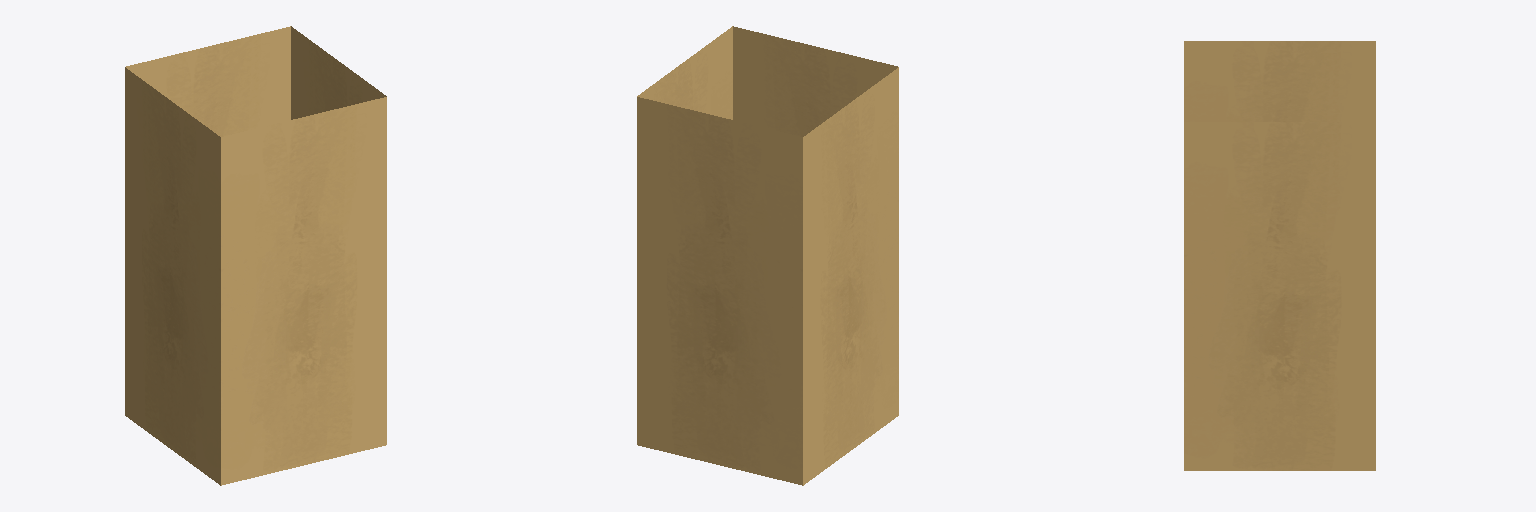
3 renders of one model, left to right at view 1: azimuth 30°, elevation 25°; view 2: azimuth 150°, elevation 25°; view 3: azimuth 270°, elevation 25°, orthographic.
Parts seen in each view (by area): view 1: pCube9; view 2: pCube9; view 3: pCube9.
Boxes of the visible parts, <box> form: pCube9: <box>125,26,386,485</box>; pCube9: <box>637,26,898,485</box>; pCube9: <box>1184,41,1375,470</box>.
Size of the model in its own units: 2 by 4 by 2.
1 materials, 1 textured.